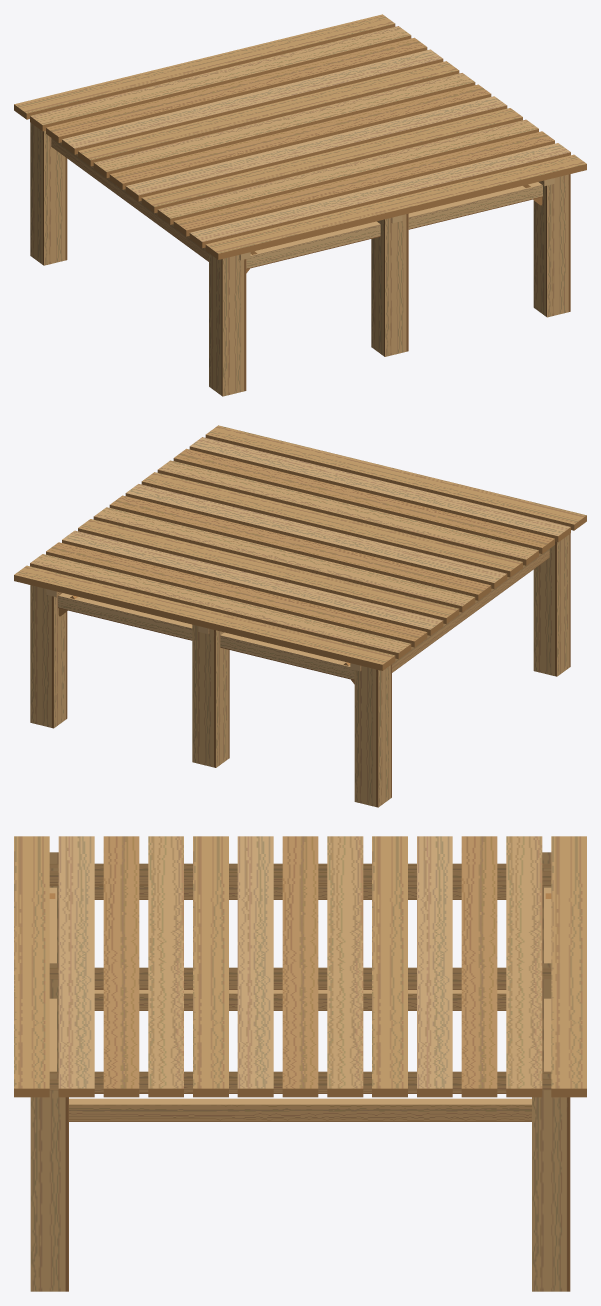
Rendered from Prop_WarehouseTable.fbx.
The picture shows the model from 3 angles, top to bottom: view 1: azimuth 30°, elevation 25°; view 2: azimuth 150°, elevation 25°; view 3: azimuth 270°, elevation 25°; orthographic projection. The views are drawn at different scales.
Visible parts, largest first — view 1: Prop_WarehouseTable; view 2: Prop_WarehouseTable; view 3: Prop_WarehouseTable.
Boxes of the visible parts, bbox=[...] form: Prop_WarehouseTable: bbox=[14, 14, 586, 396]; Prop_WarehouseTable: bbox=[14, 425, 586, 807]; Prop_WarehouseTable: bbox=[14, 836, 586, 1291].
Size of the model in its own units: 2.5 by 0.97 by 2.4.
1 material, 1 textured.
